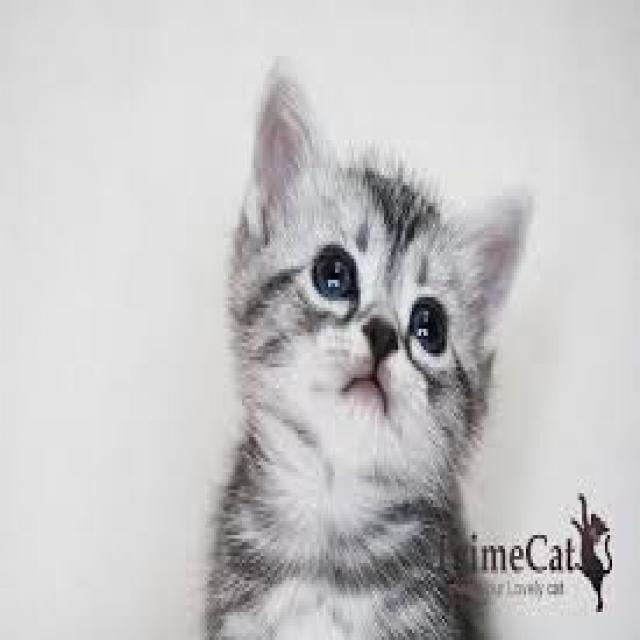cat-face: (208, 61, 556, 542)
